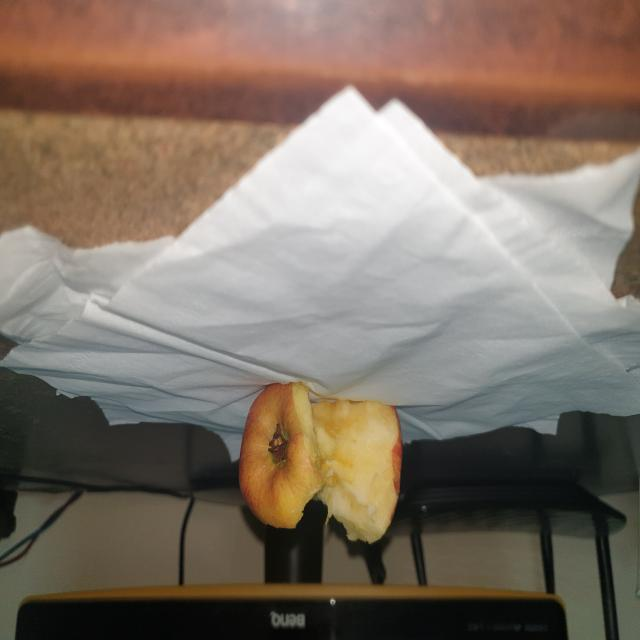apple: (228, 378, 416, 553)
